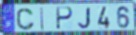4: (97, 5, 112, 30)
6: (116, 5, 131, 29)
C: (15, 8, 36, 32)
I: (40, 7, 45, 32)
J: (77, 7, 92, 30)
P: (56, 7, 75, 32)
